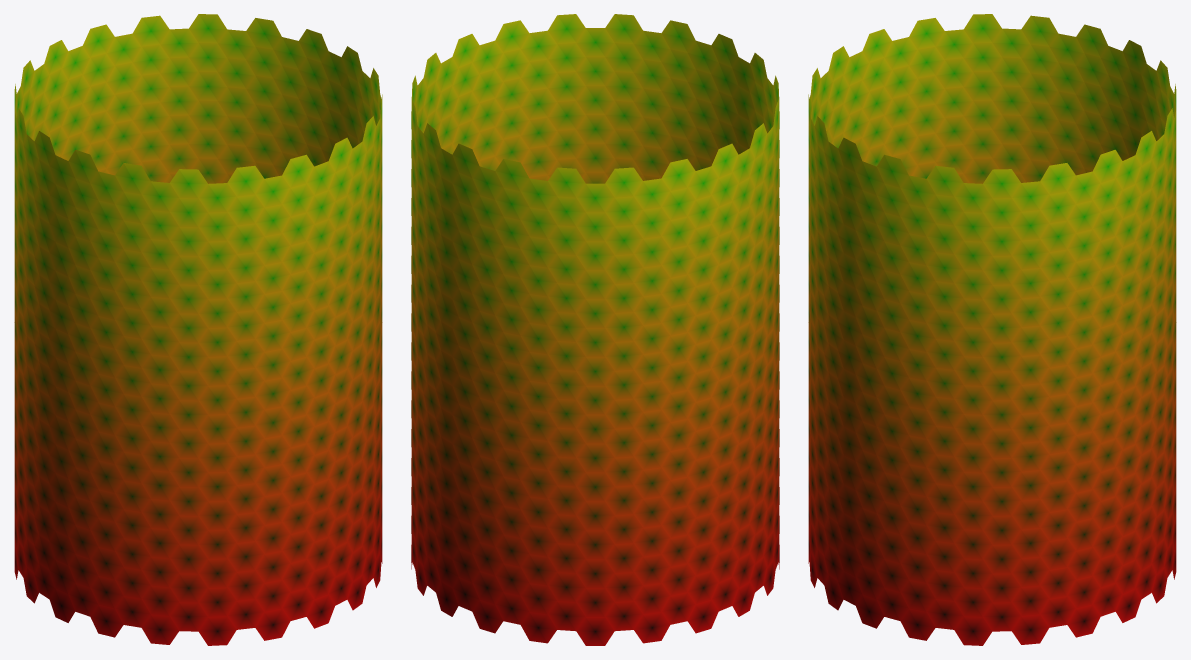
The model's file is hex_tube.fbx.
3 renders of one model, left to right at view 1: azimuth 30°, elevation 25°; view 2: azimuth 150°, elevation 25°; view 3: azimuth 270°, elevation 25°, orthographic.
Visible parts, largest first — view 1: Set_Cd_y; view 2: Set_Cd_y; view 3: Set_Cd_y.
Part boxes in pixels (<box>): Set_Cd_y: <box>14,14,382,645</box>; Set_Cd_y: <box>411,14,779,645</box>; Set_Cd_y: <box>808,14,1176,645</box>.
Size of the model in its own units: 2 by 2.86 by 2.
